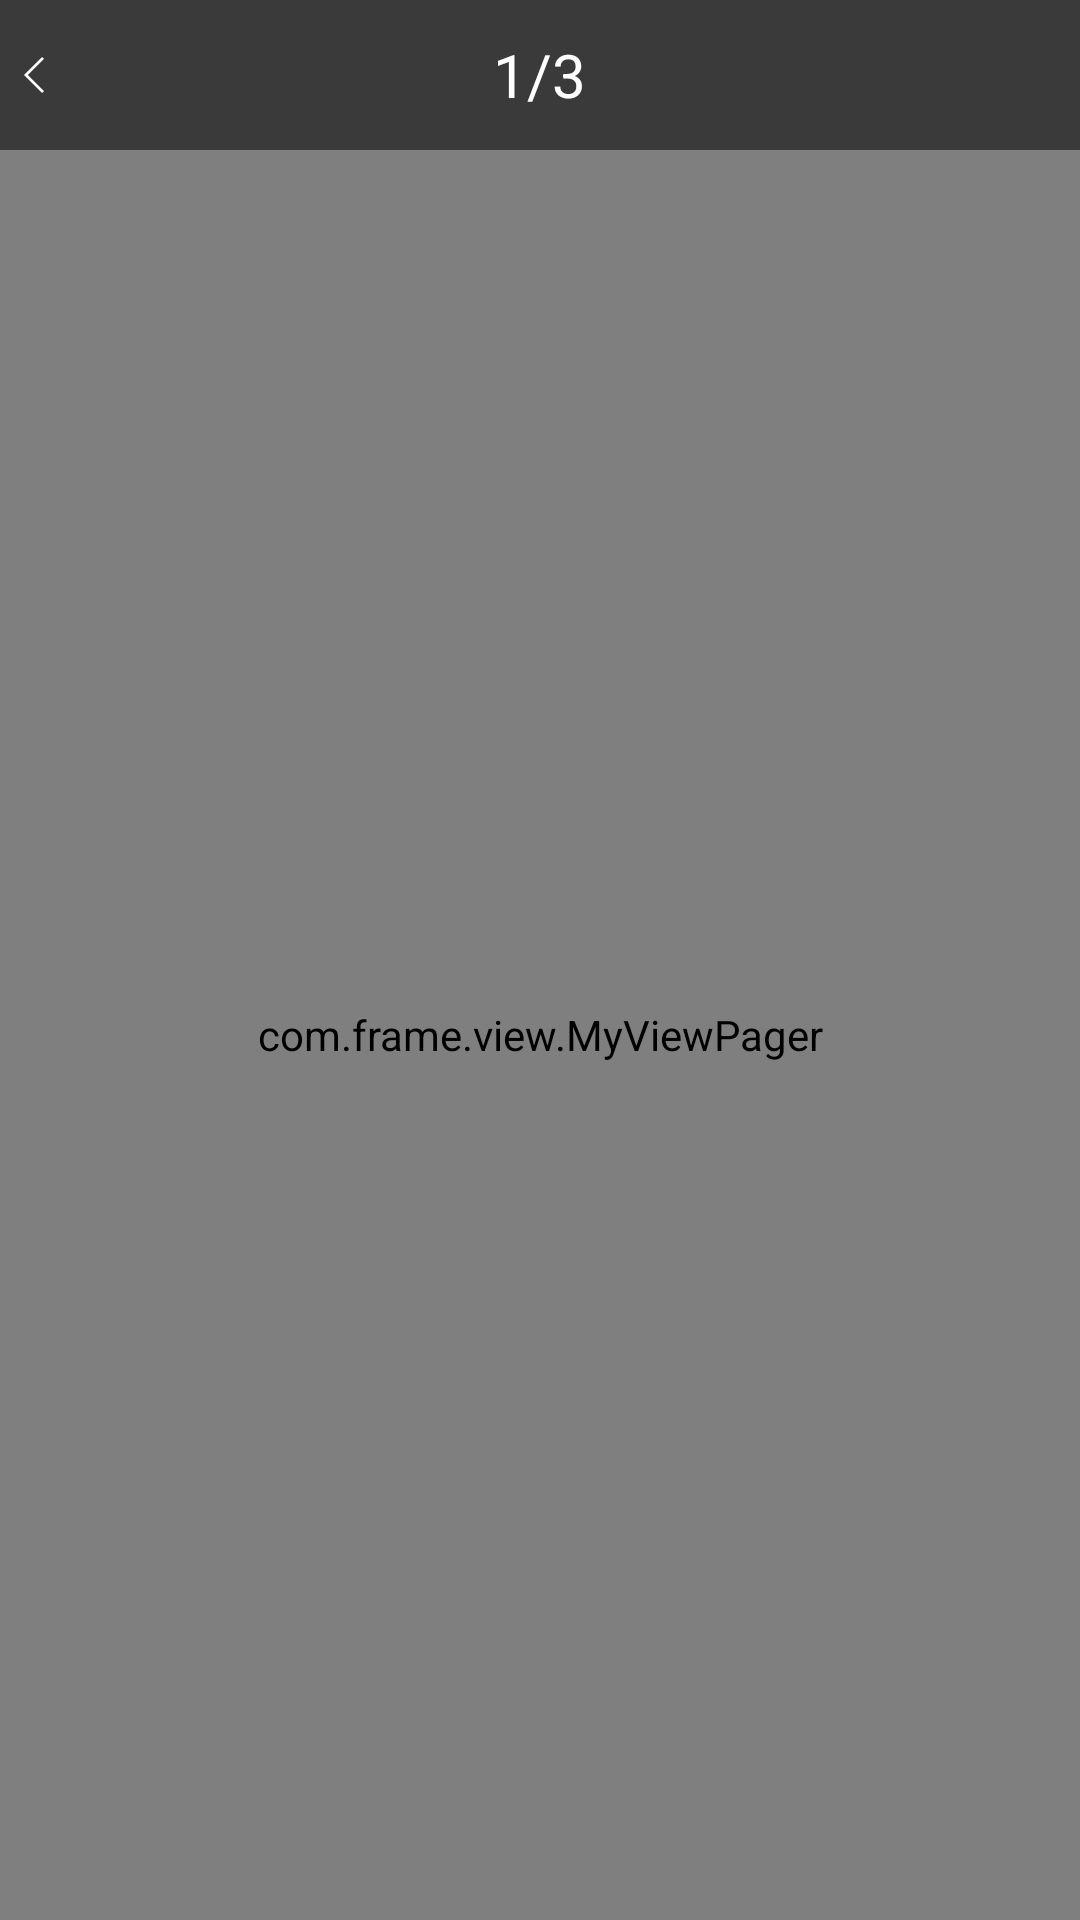

Icon bounding boxes for this 1080 × 1920 phone screenshot, format detection(x1, y1, x2, y2):
arrow left: detection(24, 57, 44, 93)
